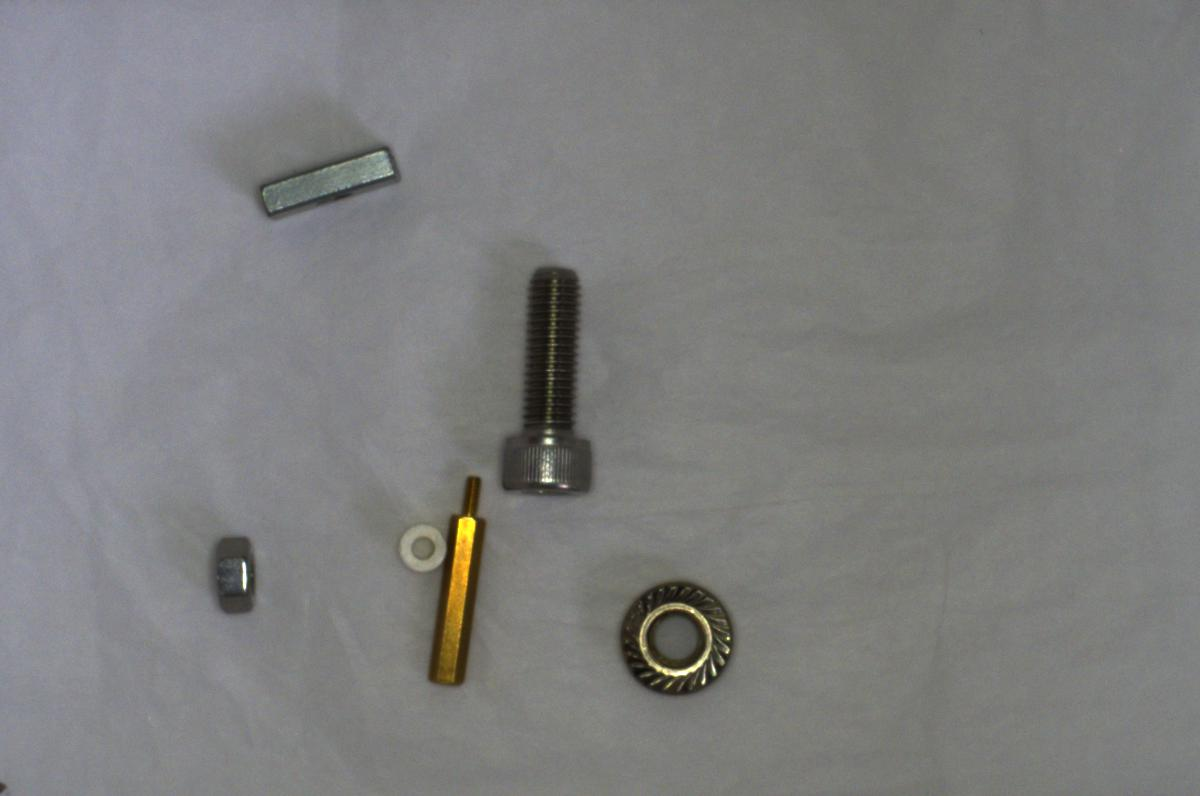Flange nut: (612, 574, 745, 710)
Hexagon nut: (200, 527, 265, 618)
Hexagon pillar: (415, 474, 485, 687)
Hexagon screw: (506, 261, 600, 500)
Plastic cushion pillar: (384, 516, 446, 576)
Rectangular nut: (257, 140, 404, 221)
